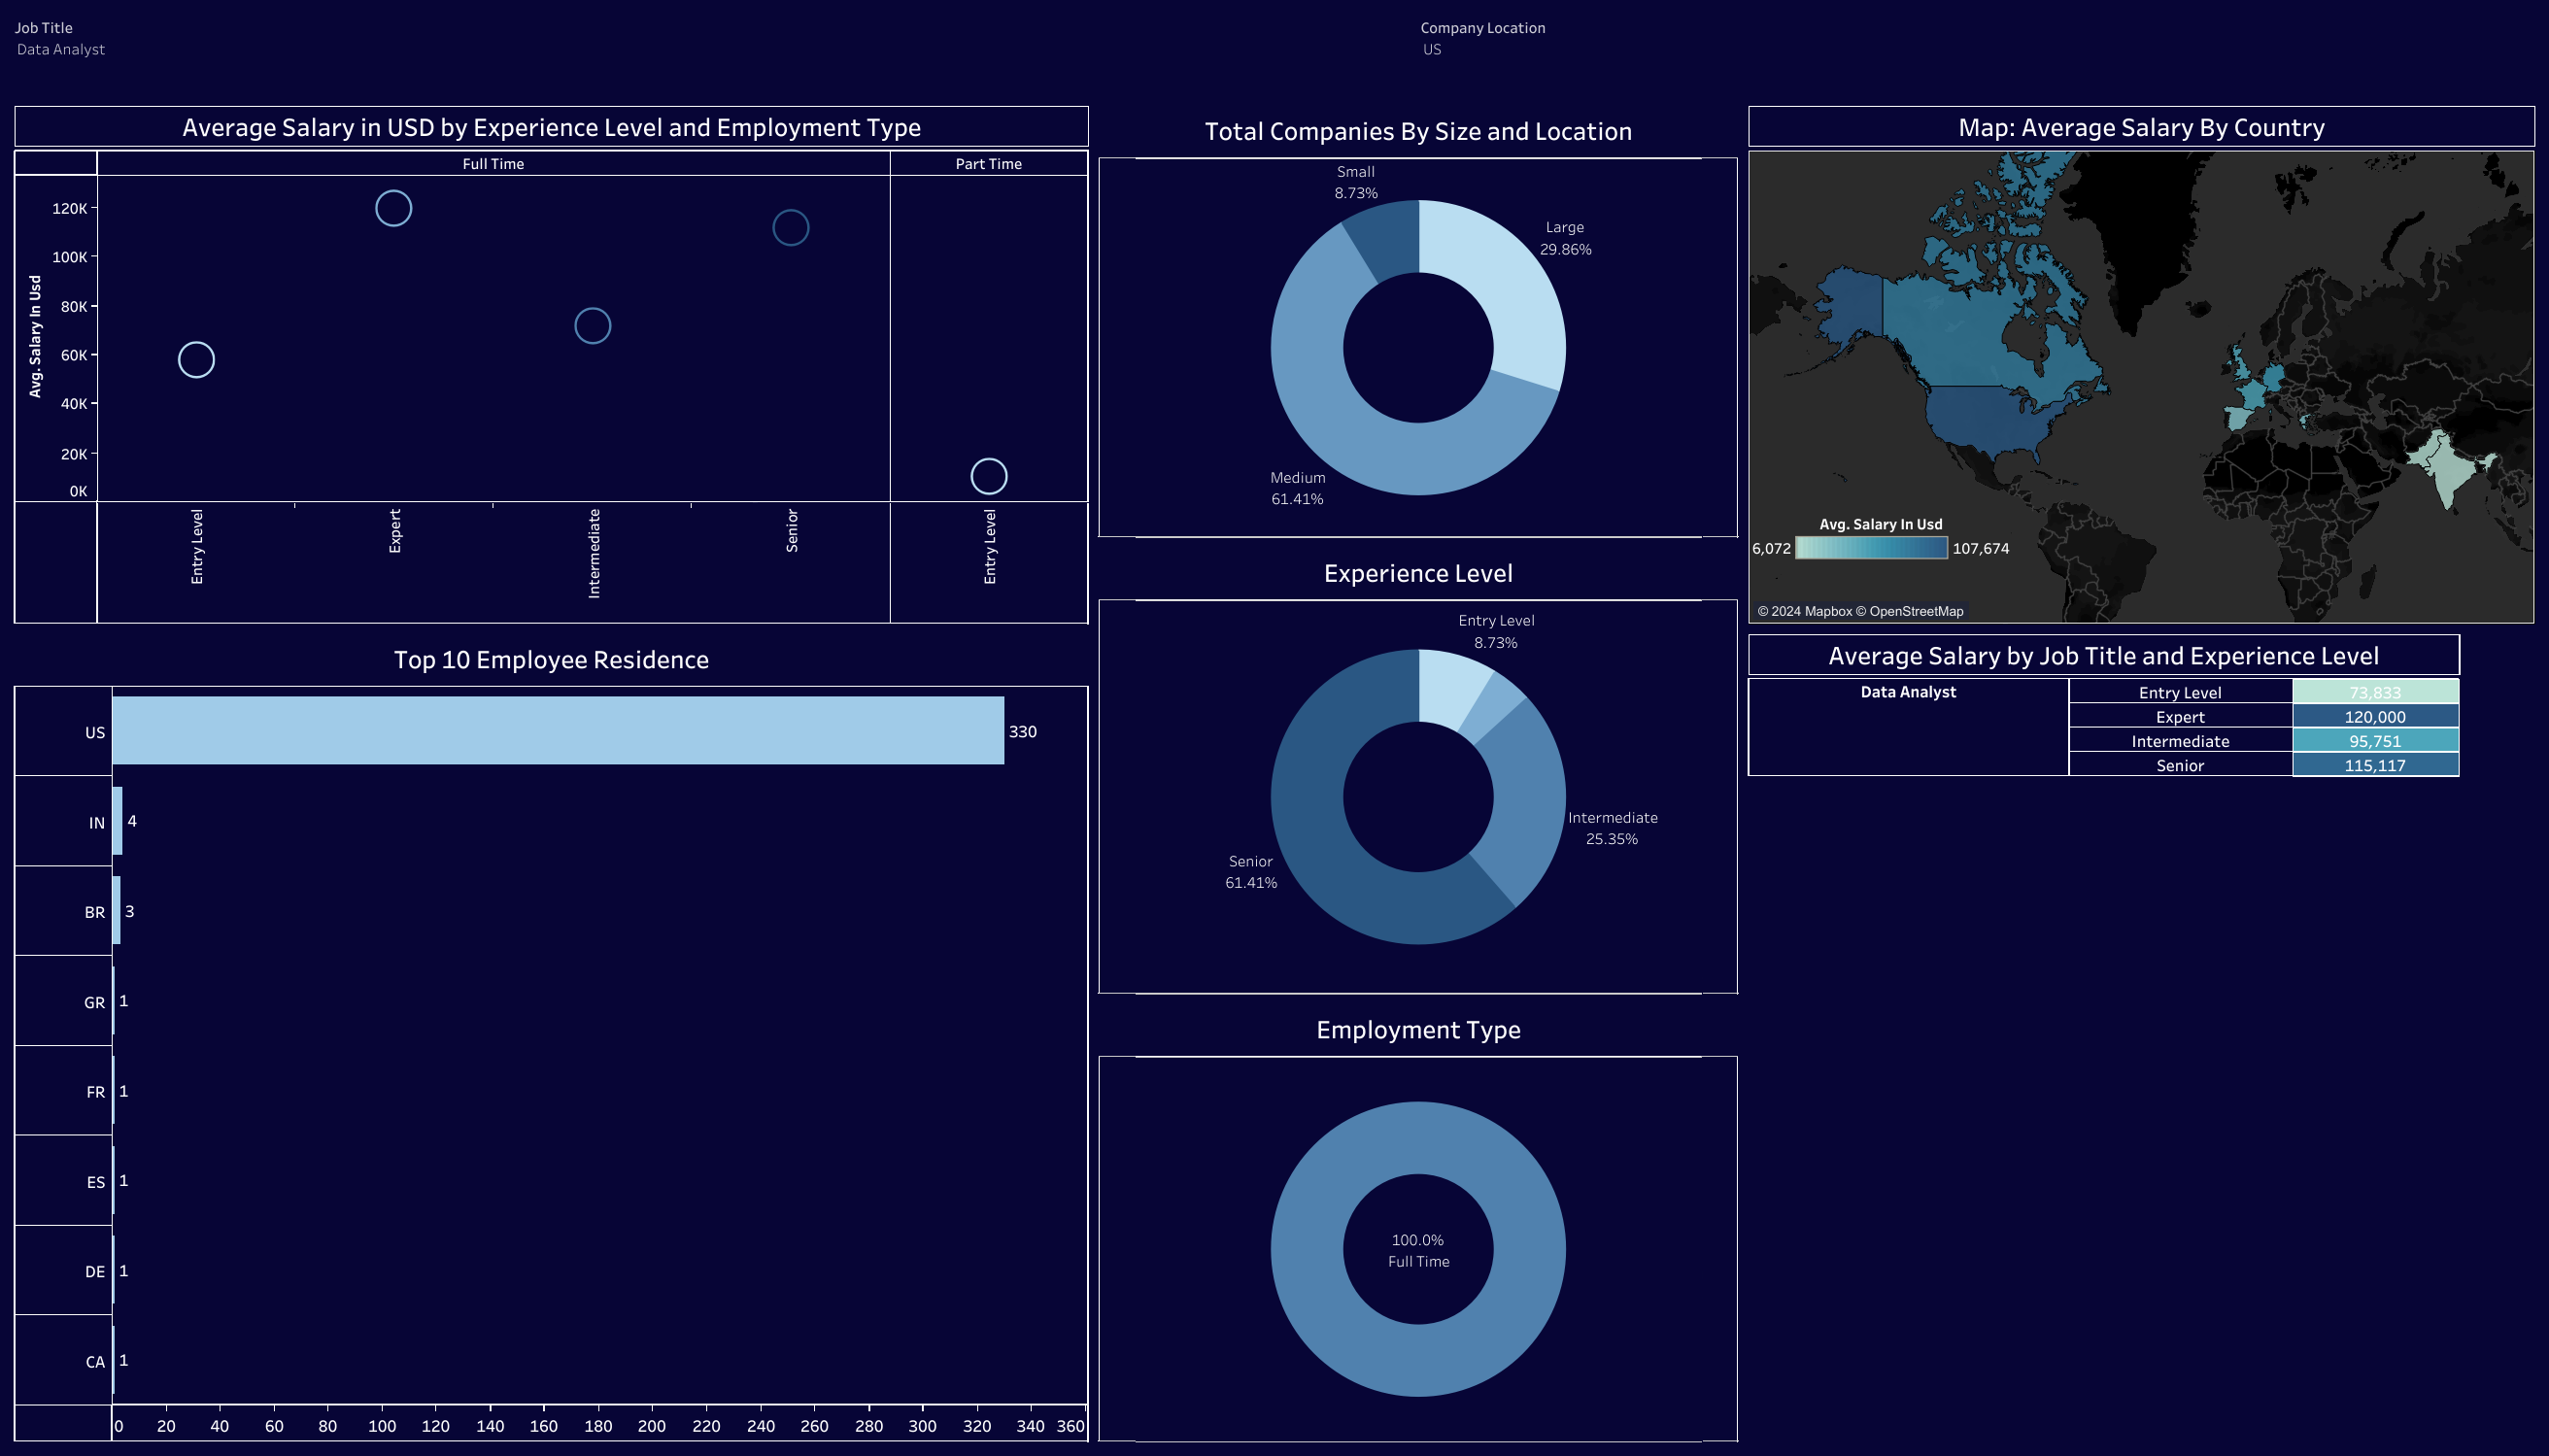

The dashboard page shown, as its layout file describes it:
{"tool":"tableau","page":{"name":"Dashboard 1","canvas":[2100,1200],"ordinal":0},"visuals":[{"type":"filter","title":"Map: Average Salary By Country","param":"[federated.10grbwq187579h1a5czxc0838g9t].[none:job_title:nk]","box":[8,8,1158,61]},{"type":"filter","title":"Total Companies By Size and Location","param":"[federated.10grbwq187579h1a5czxc0838g9t].[none:company_location:nk]","box":[1166,8,926,75]},{"type":"worksheet","title":"Average Salary in USD by Experience Level and Employment Type","mark":"Shape","rows":["salary_in_usd"],"cols":["employment_type","experience_level"],"box":[8,83,893,435]},{"type":"worksheet","title":"Total Companies By Size and Location","mark":"Pie","rows":["Calculation_4219872861954936833","Calculation_4219872861954936833"],"box":[901,83,535,364]},{"type":"worksheet","title":"Map: Average Salary By Country","mark":"Automatic","box":[1436,83,656,435]},{"type":"legend","title":"Map: Average Salary By Country","param":"[federated.10grbwq187579h1a5czxc0838g9t].[avg:salary_in_usd:qk]","box":[1439,418,221,88]},{"type":"worksheet","title":"Experience Level","mark":"Pie","rows":["Calculation_4219872861954936833","Calculation_4219872861954936833"],"box":[901,447,535,376]},{"type":"worksheet","title":"Top 10 Employee Residence","mark":"Automatic","rows":["employee_residence"],"cols":["employee_residence"],"box":[8,518,893,674]},{"type":"worksheet","title":"Average Salary by Job Title and Experience Level","mark":"Square","rows":["job_title","experience_level"],"box":[1436,518,656,674]},{"type":"worksheet","title":"Employment Type","mark":"Pie","rows":["Calculation_4219872861954936833","Calculation_4219872861954936833"],"box":[901,823,535,369]}]}

Visuals, with their boxes in screenshot pixels (x1, y1, x2, y2), scaled from the page's 2100x1200 canvas onto the 2549x1456 screenshot:
"Map: Average Salary By Country" filter: bbox(10, 10, 1415, 84)
"Total Companies By Size and Location" filter: bbox(1415, 10, 2539, 101)
"Average Salary in USD by Experience Level and Employment Type" worksheet (Shape marks): bbox(10, 101, 1094, 628)
"Total Companies By Size and Location" worksheet (Pie marks): bbox(1094, 101, 1743, 542)
"Map: Average Salary By Country" worksheet: bbox(1743, 101, 2539, 628)
"Map: Average Salary By Country" legend: bbox(1747, 507, 2015, 614)
"Experience Level" worksheet (Pie marks): bbox(1094, 542, 1743, 999)
"Top 10 Employee Residence" worksheet: bbox(10, 628, 1094, 1446)
"Average Salary by Job Title and Experience Level" worksheet (Square marks): bbox(1743, 628, 2539, 1446)
"Employment Type" worksheet (Pie marks): bbox(1094, 999, 1743, 1446)
